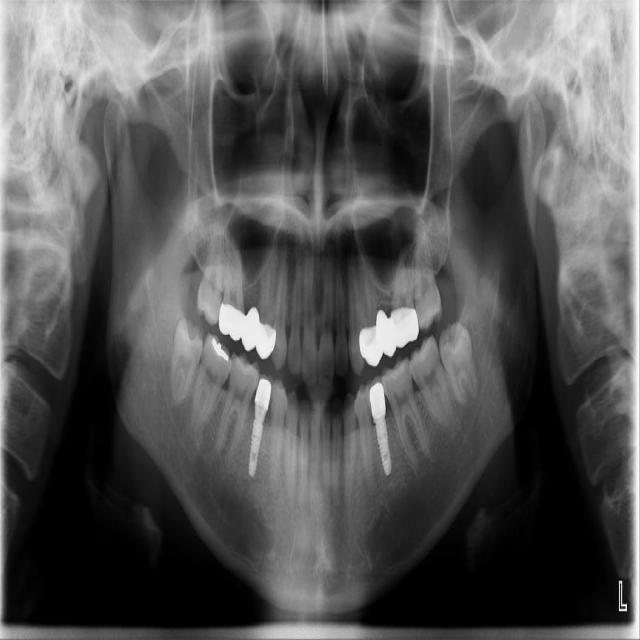52: (189, 329, 243, 385), (372, 306, 402, 357), (389, 305, 422, 349), (356, 325, 387, 370), (217, 300, 247, 342), (239, 305, 262, 353), (252, 321, 278, 361)
73: (623, 612, 630, 622)
BioHorizons Implant: (401, 211, 446, 335)
Biomet 3i Implant: (435, 318, 482, 409)
Blue Sky Bio Implant: (401, 334, 460, 438)
Caries: (194, 208, 231, 327)
Implant: (183, 333, 238, 438)
Keystone Dental Implant: (165, 318, 206, 411)
